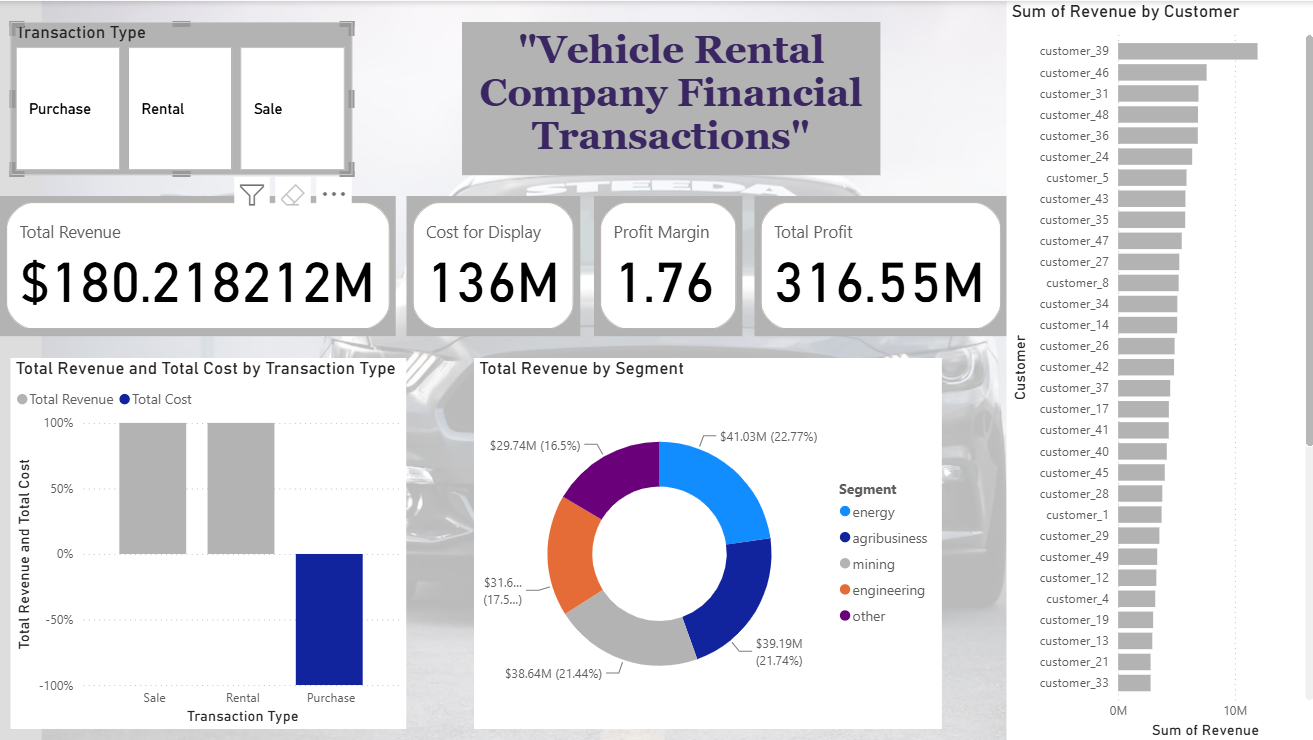

The dashboard page shown, as its layout file describes it:
{"tool":"powerbi","page":{"name":"Page 1","canvas":[1280,720],"ordinal":0},"visuals":[{"type":"cardVisual","fields":{"Data":["Vehicle_Rental_Company_Financia.Total Revenue"]},"box":[0,188.6,384.3,135.7],"z":0},{"type":"cardVisual","fields":{"Data":["Vehicle_Rental_Company_Financia.Total Profit"]},"box":[731.4,188.6,245.7,135.7],"z":1000},{"type":"cardVisual","fields":{"Data":["Vehicle_Rental_Company_Financia.Cost for Display"]},"box":[394.3,188.6,168.6,135.7],"z":2000},{"type":"cardVisual","fields":{"Data":["Vehicle_Rental_Company_Financia.Profit Margin"]},"box":[575.7,188.6,144.3,135.7],"z":3000},{"type":"clusteredBarChart","fields":{"Y":["Sum(Vehicle_Rental_Company_Financia.Revenue)"],"Category":["Vehicle_Rental_Company_Financia.Customer"]},"box":[977.1,0,302.9,720],"z":4000},{"type":"hundredPercentStackedColumnChart","fields":{"Category":["Vehicle_Rental_Company_Financia.Transaction Type"],"Y":["Vehicle_Rental_Company_Financia.Total Revenue","Vehicle_Rental_Company_Financia.Total Cost"]},"box":[10,347.1,384.3,360],"z":5000},{"type":"advancedSlicerVisual","fields":{"Values":["Vehicle_Rental_Company_Financia.Transaction Type"]},"box":[10,20,331.4,148.6],"z":6000},{"type":"donutChart","fields":{"Y":["Vehicle_Rental_Company_Financia.Total Revenue"],"Category":["Vehicle_Rental_Company_Financia.Segment"]},"box":[460,347.1,454.3,360],"z":7000},{"type":"textbox","box":[448.6,20,405.7,148.6],"z":8000}]}

Visuals, with their boxes in screenshot pixels (x1, y1, x2, y2), scaled from the page's 1280x720 canvas onto the 1313x740 screenshot:
cardVisual - Vehicle_Rental_Company_Financia.Total Revenue: <bbox>0, 194, 394, 333</bbox>
cardVisual - Vehicle_Rental_Company_Financia.Total Profit: <bbox>750, 194, 1002, 333</bbox>
cardVisual - Vehicle_Rental_Company_Financia.Cost for Display: <bbox>404, 194, 577, 333</bbox>
cardVisual - Vehicle_Rental_Company_Financia.Profit Margin: <bbox>591, 194, 739, 333</bbox>
clusteredBarChart - Sum(Vehicle_Rental_Company_Financia.Revenue) x Vehicle_Rental_Company_Financia.Customer: <bbox>1002, 0, 1312, 739</bbox>
hundredPercentStackedColumnChart - Vehicle_Rental_Company_Financia.Transaction Type x Vehicle_Rental_Company_Financia.Total Revenue: <bbox>10, 357, 404, 727</bbox>
advancedSlicerVisual - Vehicle_Rental_Company_Financia.Transaction Type: <bbox>10, 21, 350, 173</bbox>
donutChart - Vehicle_Rental_Company_Financia.Total Revenue x Vehicle_Rental_Company_Financia.Segment: <bbox>472, 357, 938, 727</bbox>
textbox: <bbox>460, 21, 876, 173</bbox>
